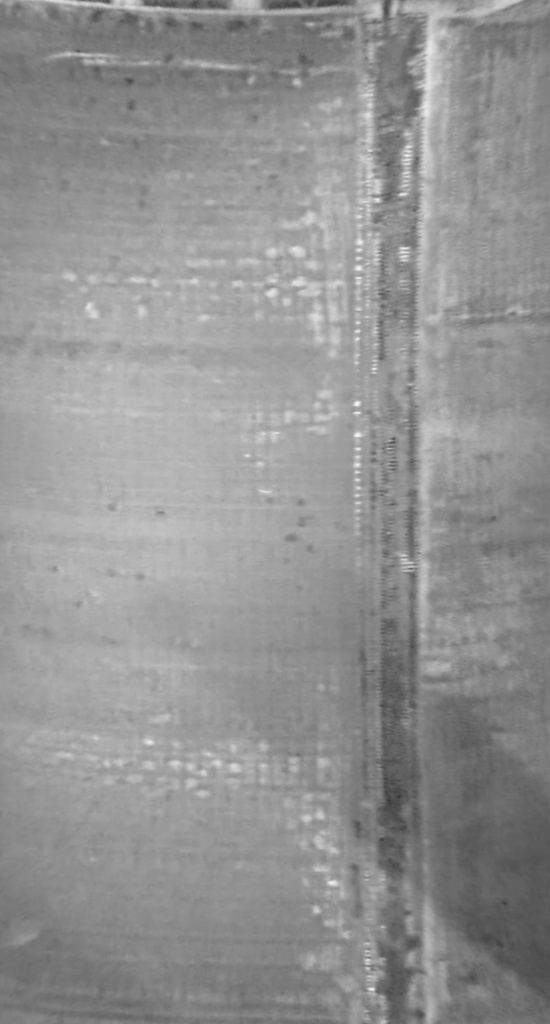splice: (341, 1, 438, 1024)
